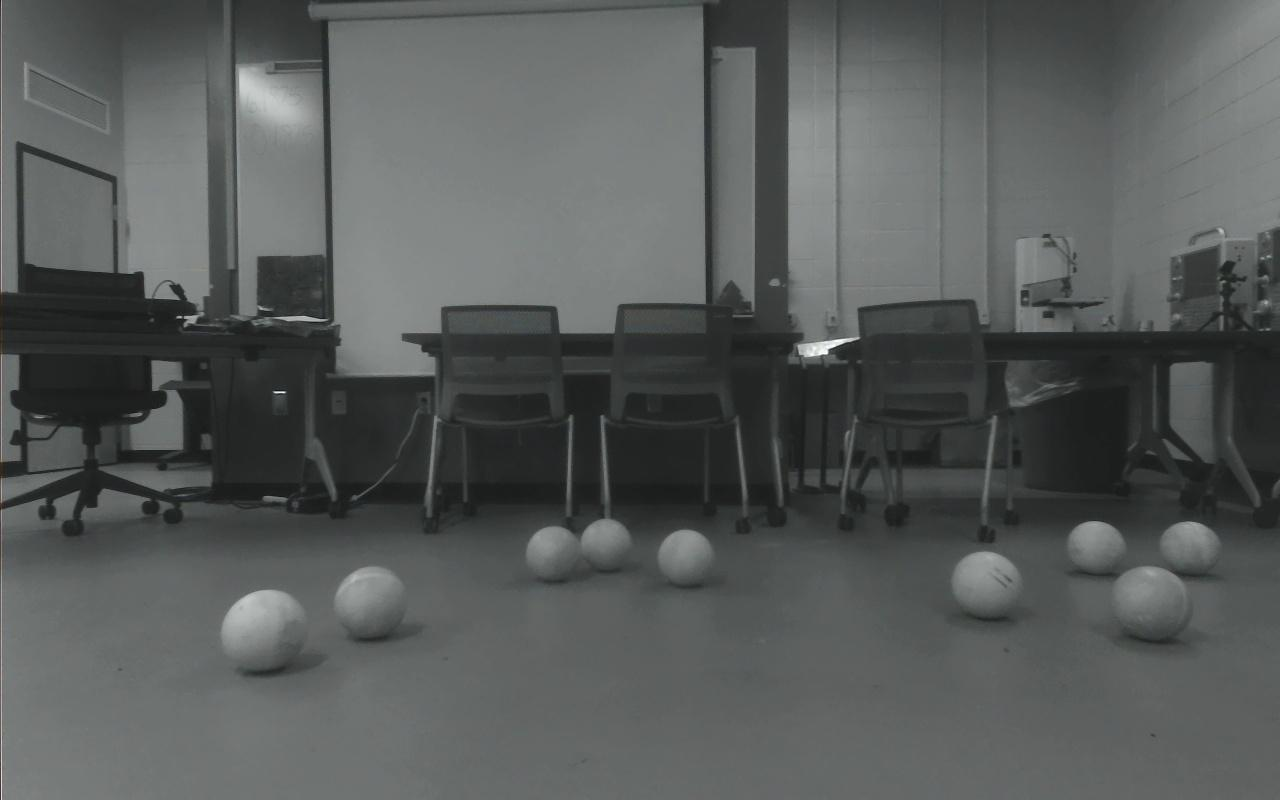Fuel: (221, 589, 306, 674), (1111, 565, 1192, 642), (334, 566, 407, 640), (952, 551, 1023, 620), (657, 529, 716, 588), (1160, 521, 1221, 576), (1066, 521, 1126, 575), (526, 525, 581, 582), (581, 518, 634, 572)
